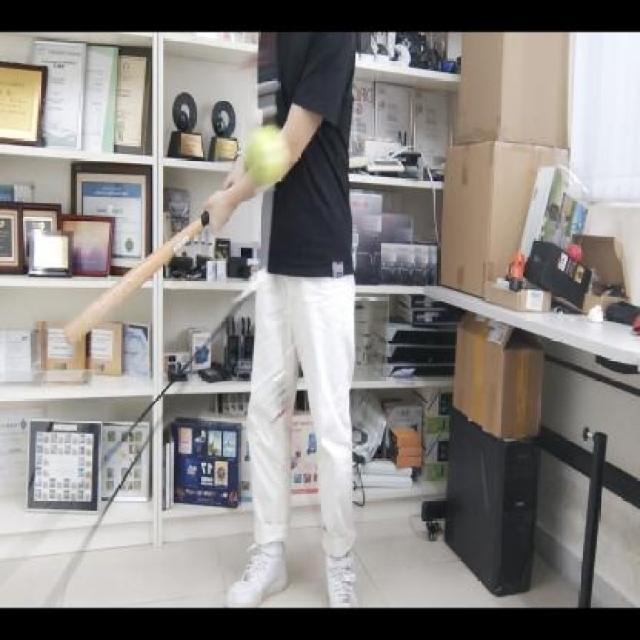baseball: (238, 123, 292, 189)
